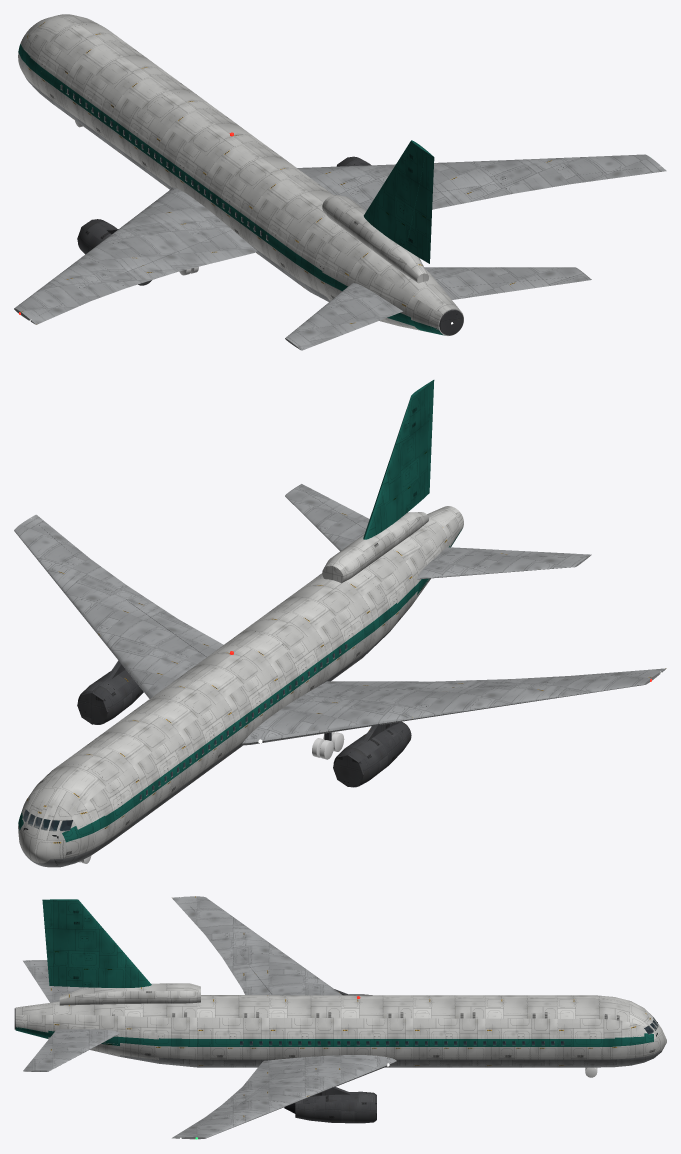
The model's file is widebody.glb.
3 views of the same model, one above another, from view 1: azimuth 30°, elevation 25°; view 2: azimuth 150°, elevation 25°; view 3: azimuth 270°, elevation 25° (orthographic). The views are drawn at different scales.
Visible parts, largest first — view 1: fuselage_cabin_fwd.L0, fuselage_centre.L0, fuselage_cabin_aft.L0, fuselage_tail.L0, wing_l_inner.L0, fin.L0, intake_hump.L0, wing_l_inner.L1, wing_r_inner.L0, wing_r_outer.L0, fuselage_nose.L0, tailplane_r.L0 (+23 smaller); view 2: fuselage_cabin_fwd.L0, fuselage_centre.L0, fuselage_cabin_aft.L0, fuselage_nose.L0, wing_l_inner.L0, fuselage_tail.L0, wing_r_inner.L0, fin.L0, wing_l_inner.L1, intake_hump.L0, tailplane_l.L0, wing_l_outer.L0 (+14 smaller); view 3: fuselage_cabin_fwd.L0, fuselage_cabin_aft.L0, fuselage_centre.L0, fuselage_tail.L0, fuselage_nose.L0, fin.L0, wing_r_inner.L0, intake_hump.L0, nacelle_3.L0, wing_l_outer.L0, wing_l_inner.L0, wing_r_inner.L1 (+18 smaller).
Part boxes in pixels (x1=…): fuselage_cabin_fwd.L0: x1=41, y1=24, x2=197, y2=170; fuselage_centre.L0: x1=134, y1=92, x2=286, y2=220; fuselage_cabin_aft.L0: x1=221, y1=156, x2=338, y2=298; fuselage_tail.L0: x1=310, y1=225, x2=463, y2=335; wing_l_inner.L0: x1=84, y1=187, x2=256, y2=272; fin.L0: x1=363, y1=140, x2=434, y2=263; intake_hump.L0: x1=322, y1=195, x2=428, y2=283; wing_l_inner.L1: x1=86, y1=188, x2=244, y2=287; wing_r_inner.L0: x1=297, y1=161, x2=491, y2=203; wing_r_outer.L0: x1=472, y1=154, x2=666, y2=193; fuselage_nose.L0: x1=18, y1=14, x2=102, y2=102; tailplane_r.L0: x1=424, y1=267, x2=586, y2=299; fuselage_cabin_fwd.L0: x1=56, y1=695, x2=213, y2=842; fuselage_centre.L0: x1=150, y1=631, x2=300, y2=774; fuselage_cabin_aft.L0: x1=236, y1=572, x2=387, y2=696; fuselage_nose.L0: x1=18, y1=764, x2=120, y2=867; wing_l_inner.L0: x1=241, y1=681, x2=491, y2=745; fuselage_tail.L0: x1=359, y1=506, x2=463, y2=640; wing_r_inner.L0: x1=83, y1=595, x2=206, y2=698; fin.L0: x1=363, y1=380, x2=434, y2=539; wing_l_inner.L1: x1=246, y1=679, x2=511, y2=745; intake_hump.L0: x1=322, y1=512, x2=428, y2=583; tailplane_l.L0: x1=417, y1=547, x2=590, y2=579; wing_l_outer.L0: x1=469, y1=668, x2=666, y2=710; fuselage_cabin_fwd.L0: x1=449, y1=995, x2=594, y2=1067; fuselage_cabin_aft.L0: x1=175, y1=995, x2=312, y2=1067; fuselage_centre.L0: x1=313, y1=995, x2=449, y2=1067; fuselage_tail.L0: x1=15, y1=1001, x2=175, y2=1065; fuselage_nose.L0: x1=595, y1=995, x2=666, y2=1067; fin.L0: x1=42, y1=899, x2=151, y2=987; wing_r_inner.L0: x1=247, y1=1055, x2=396, y2=1105; intake_hump.L0: x1=59, y1=983, x2=200, y2=1005; nacelle_3.L0: x1=295, y1=1087, x2=375, y2=1123; wing_l_outer.L0: x1=172, y1=896, x2=287, y2=955; wing_l_inner.L0: x1=246, y1=953, x2=342, y2=995; wing_r_inner.L1: x1=222, y1=1055, x2=392, y2=1104.
Size of the model in its own units: 47.5 by 16.18 by 54.35.
21 materials, 14 textured.
